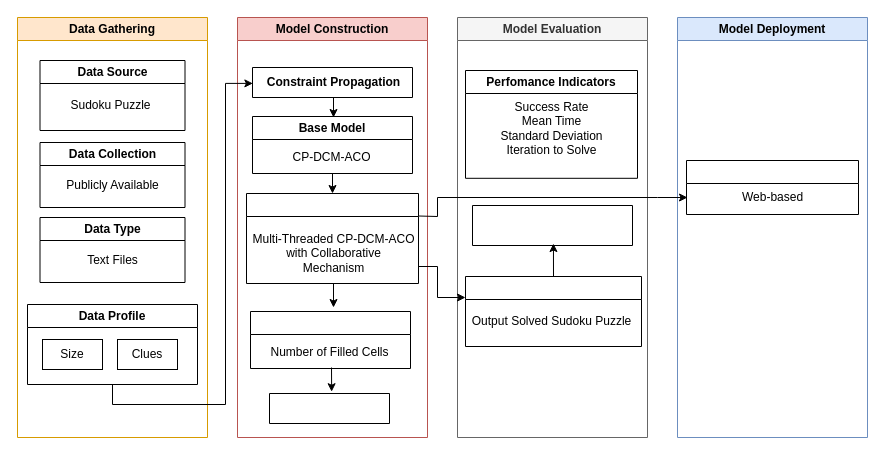
Image size: 885x455. Some labels were removed from this diagram. Each missing label, with the box of its shape:
Comparative Analysis: (472, 204, 632, 246)
Model Testing: (464, 276, 642, 346)
Objective Function: (250, 310, 410, 368)
Parameter Tuning: (268, 392, 390, 424)
Platform: (686, 160, 858, 214)
Proposed Model: (246, 192, 418, 284)
